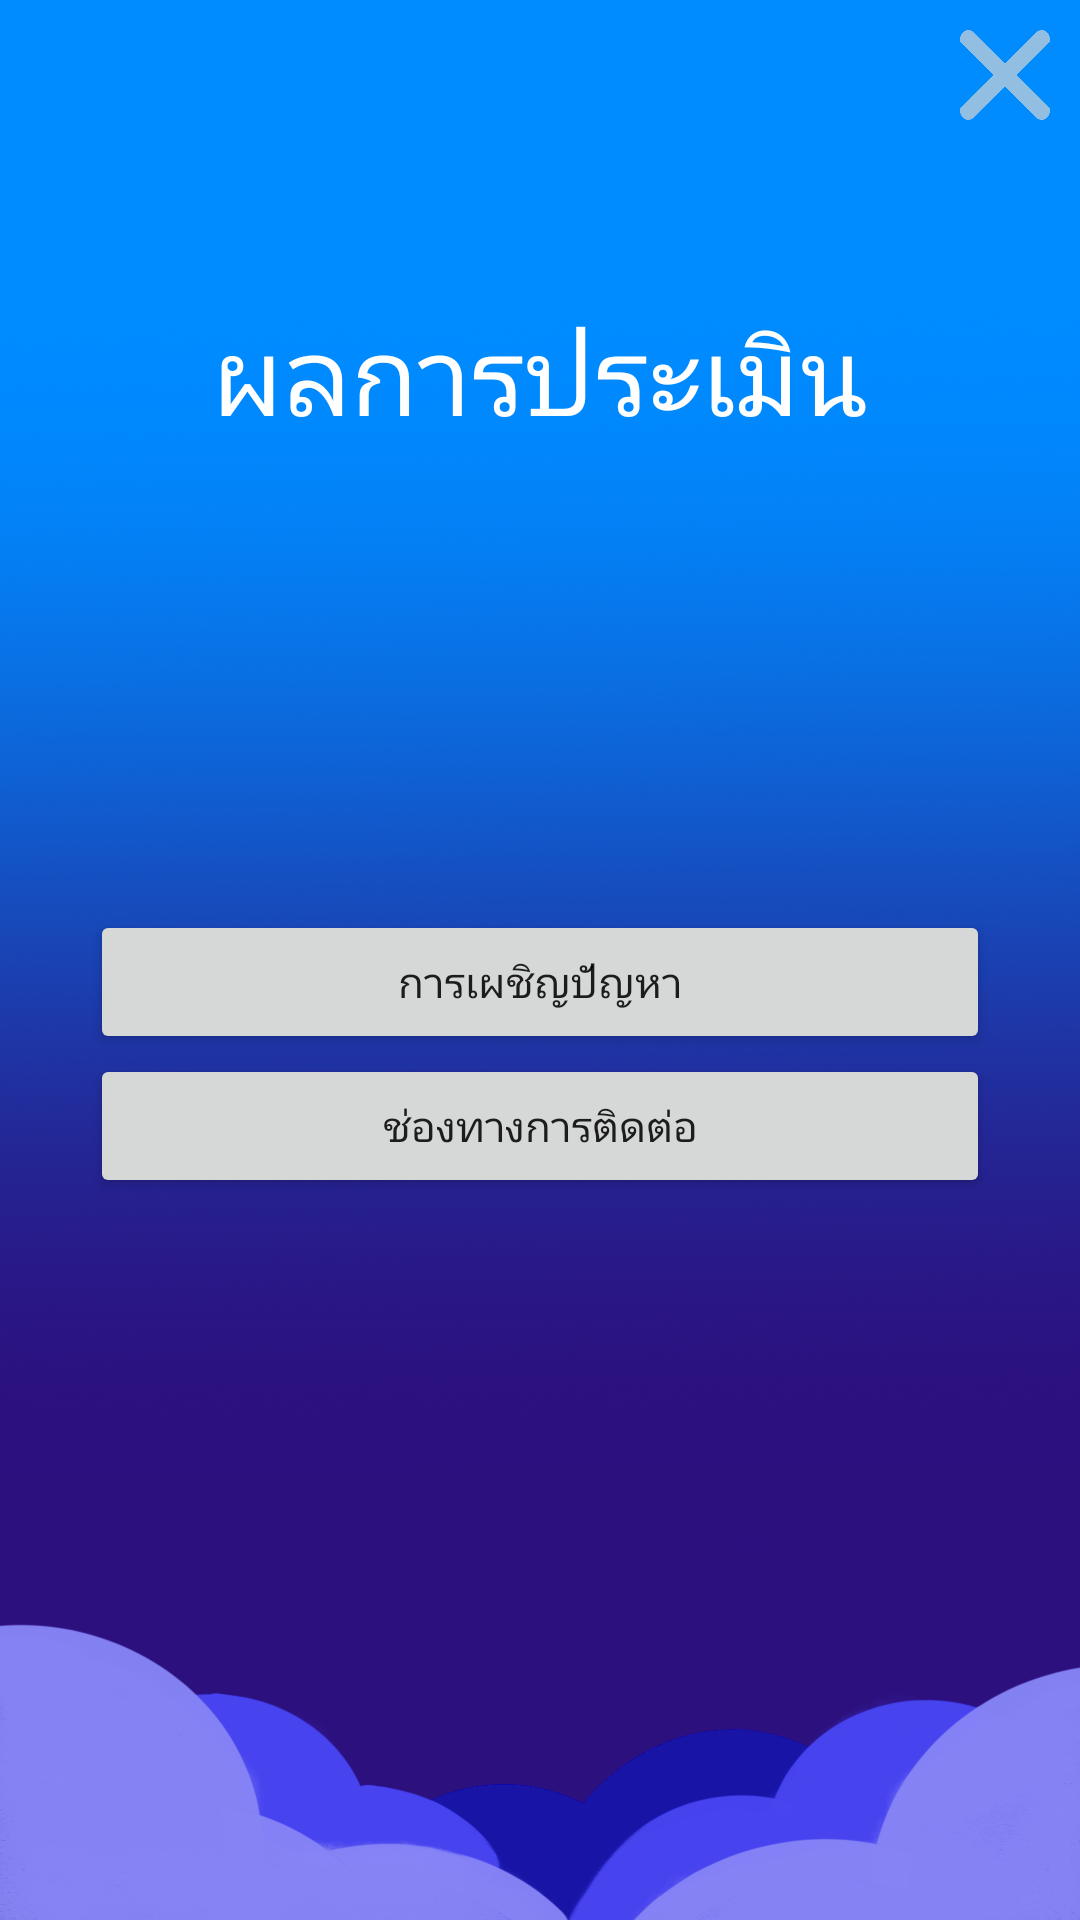

Icon click points for this 1080 x 1920 phone screenshot, format (x=x, y=y):
exit: (x=1005, y=75)
